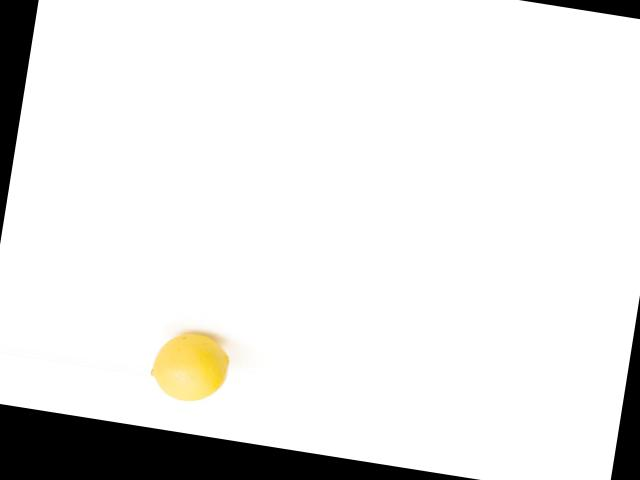lemon: (146, 317, 243, 409)
